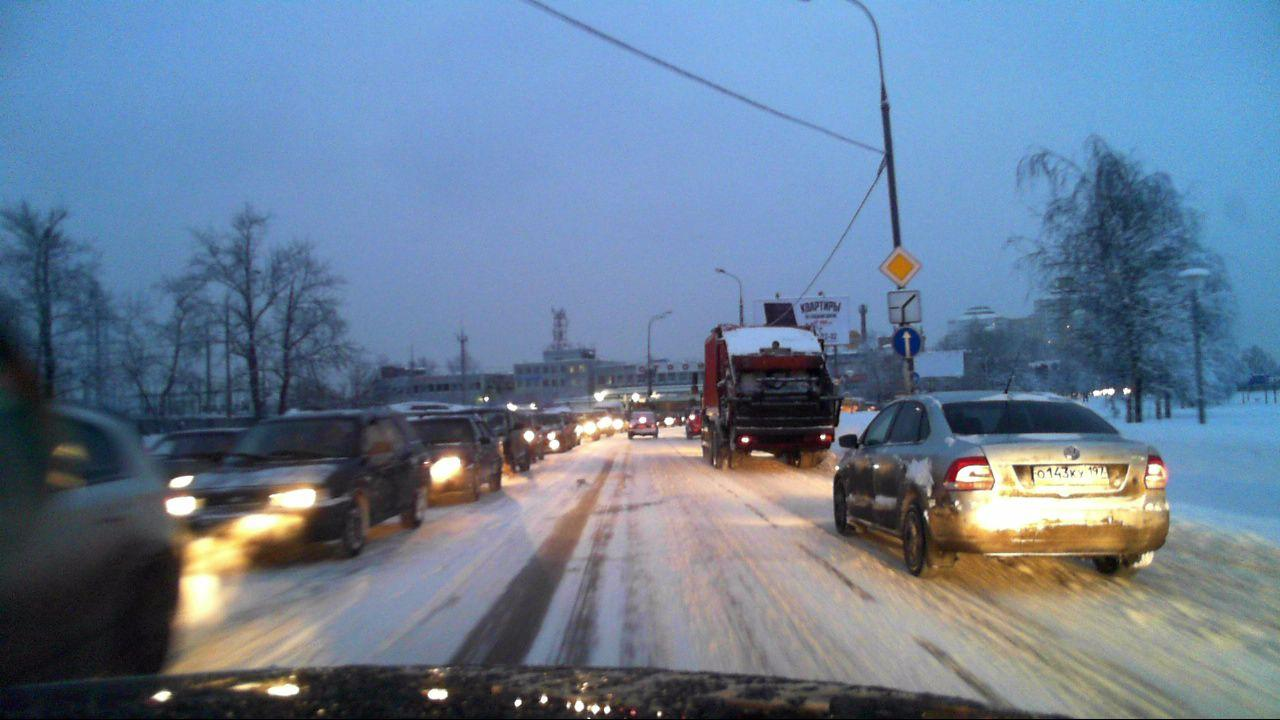road_sign: (877, 243, 924, 289), (887, 289, 922, 324), (892, 327, 921, 359)
